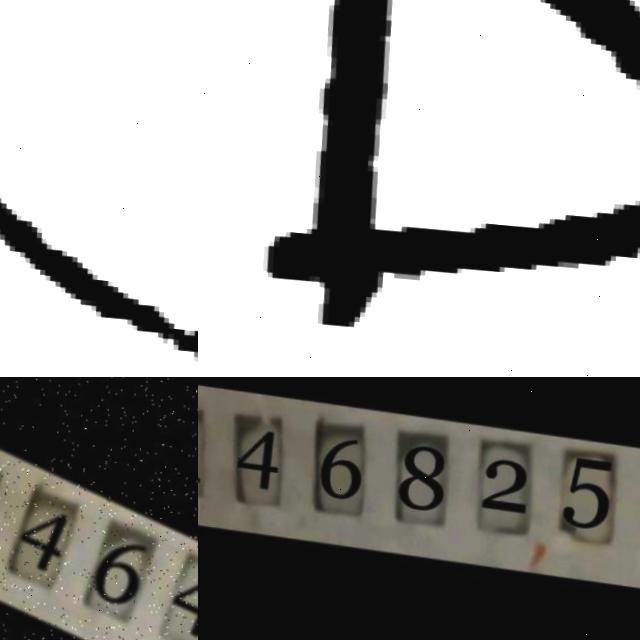2: (463, 437, 535, 530)
4: (0, 481, 82, 586), (220, 411, 283, 501), (142, 543, 198, 640)
5: (545, 445, 616, 540)
6: (64, 512, 163, 626), (300, 420, 366, 510)
8: (380, 428, 452, 525)
D: (198, 0, 640, 367)
N: (0, 0, 198, 377)
